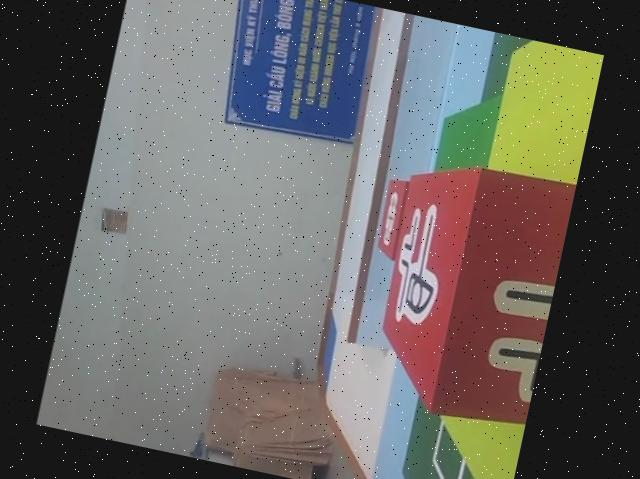R2 Real: (362, 149, 577, 434)
